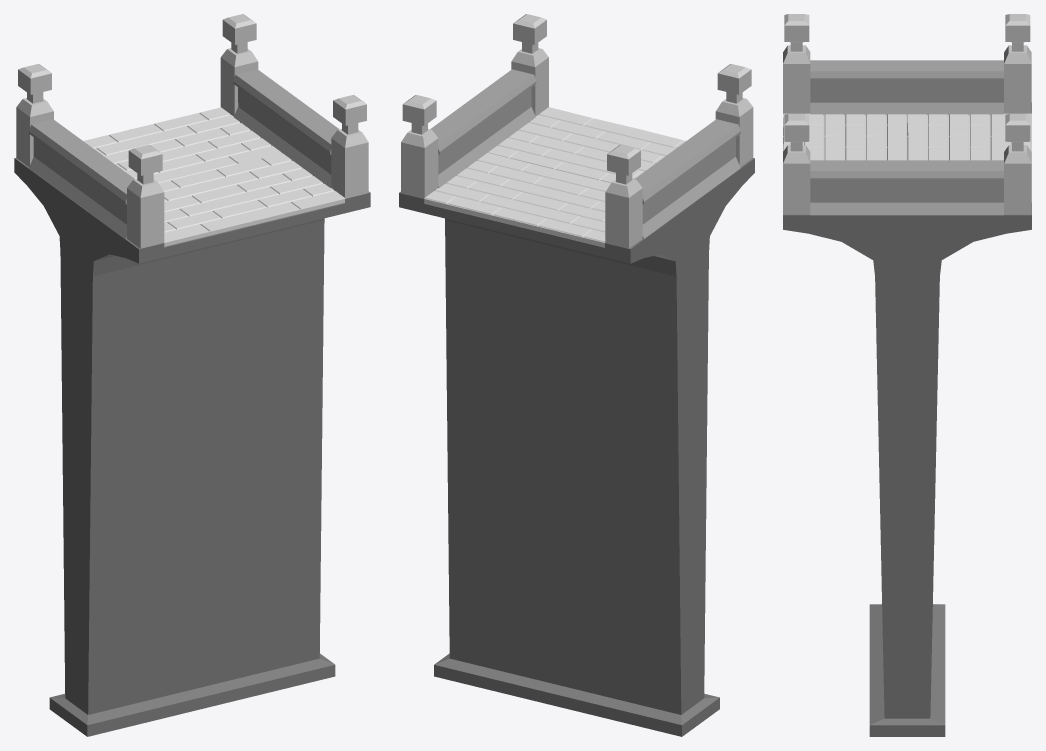
Rendered from Bridge 1.fbx.
3 renders of one model, left to right at view 1: azimuth 30°, elevation 25°; view 2: azimuth 150°, elevation 25°; view 3: azimuth 270°, elevation 25°, orthographic.
Visible parts, largest first — view 1: Cube.003, Cube.007, Cube.012, Cube.013, Cube.010, Cube.011, Cube.004, Cube; view 2: Cube.003, Cube.007, Cube.012, Cube.013, Cube.004, Cube, Cube.010, Cube.011; view 3: Cube.003, Cube.013, Cube.012, Cube.007, Cube.011, Cube.004, Cube.010, Cube.
Part boxes in pixels (box(x1,y1,x2,y2)): Cube.003: box(14, 158, 370, 736); Cube.007: box(83, 107, 345, 247); Cube.012: box(28, 119, 134, 238); Cube.013: box(233, 69, 339, 187); Cube.010: box(127, 144, 164, 248); Cube.011: box(331, 95, 368, 198); Cube.004: box(220, 14, 258, 116); Cube: box(16, 64, 53, 166); Cube.003: box(399, 158, 754, 736); Cube.007: box(424, 107, 685, 246); Cube.012: box(634, 119, 740, 238); Cube.013: box(430, 69, 536, 187); Cube.004: box(401, 95, 438, 198); Cube: box(605, 145, 642, 248); Cube.010: box(715, 64, 753, 166); Cube.011: box(511, 14, 548, 116); Cube.003: box(783, 102, 1031, 736); Cube.013: box(810, 160, 1003, 215); Cube.012: box(810, 60, 1003, 115); Cube.007: box(783, 113, 1031, 202); Cube.011: box(783, 113, 810, 214); Cube.004: box(1004, 113, 1031, 214); Cube.010: box(783, 14, 810, 113); Cube: box(1004, 14, 1031, 113).
Size of the model in its own units: 917 by 2152 by 797.
